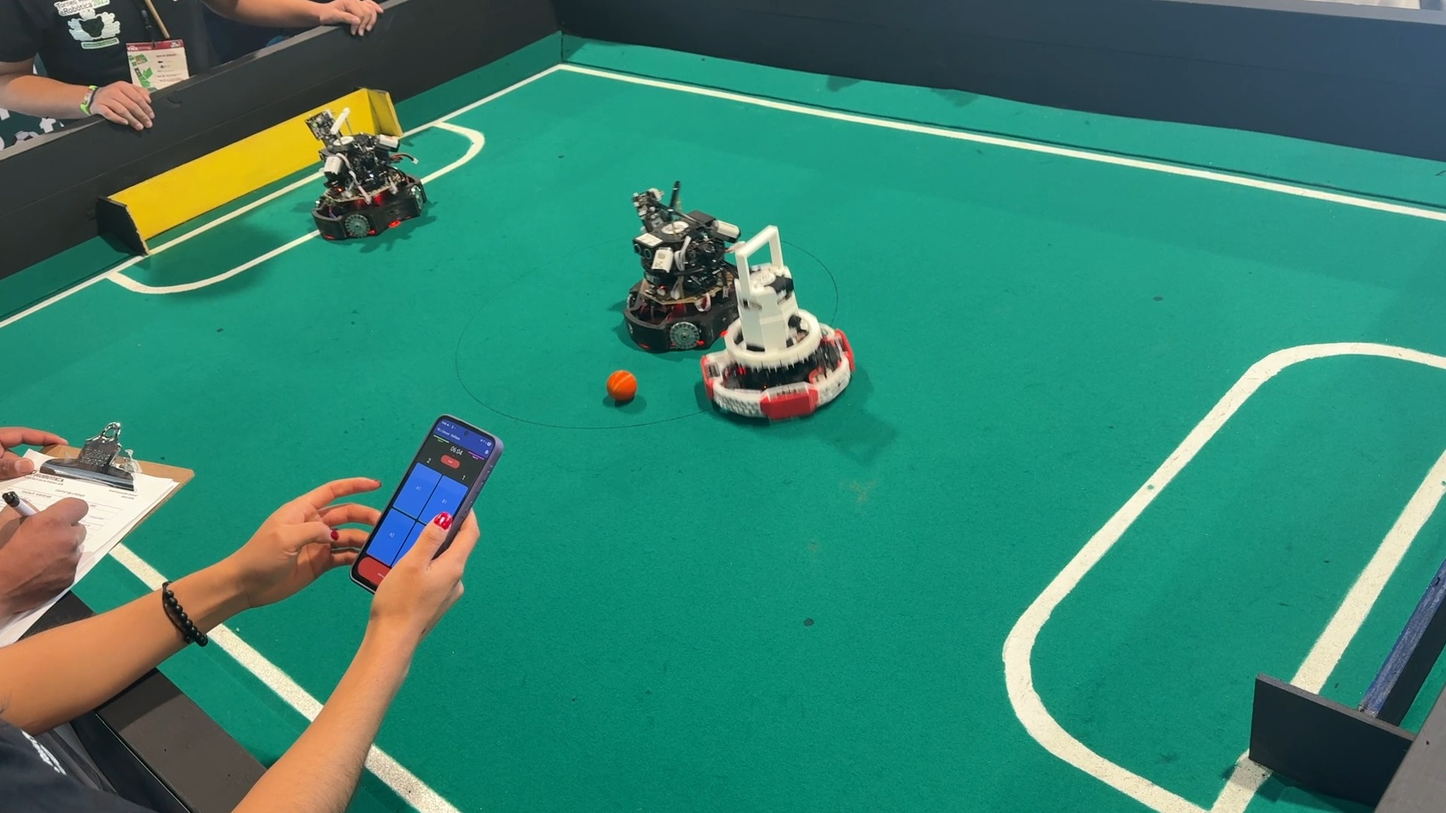Robot: (698, 216, 865, 443), (282, 94, 447, 263), (616, 179, 744, 364)
pelota: (603, 367, 643, 414)
